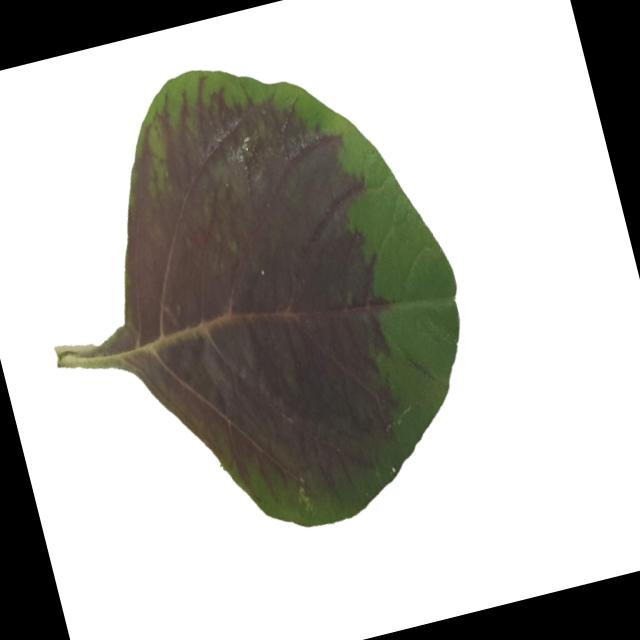Medicinal-Arive Dantu: (0, 19, 505, 577)
